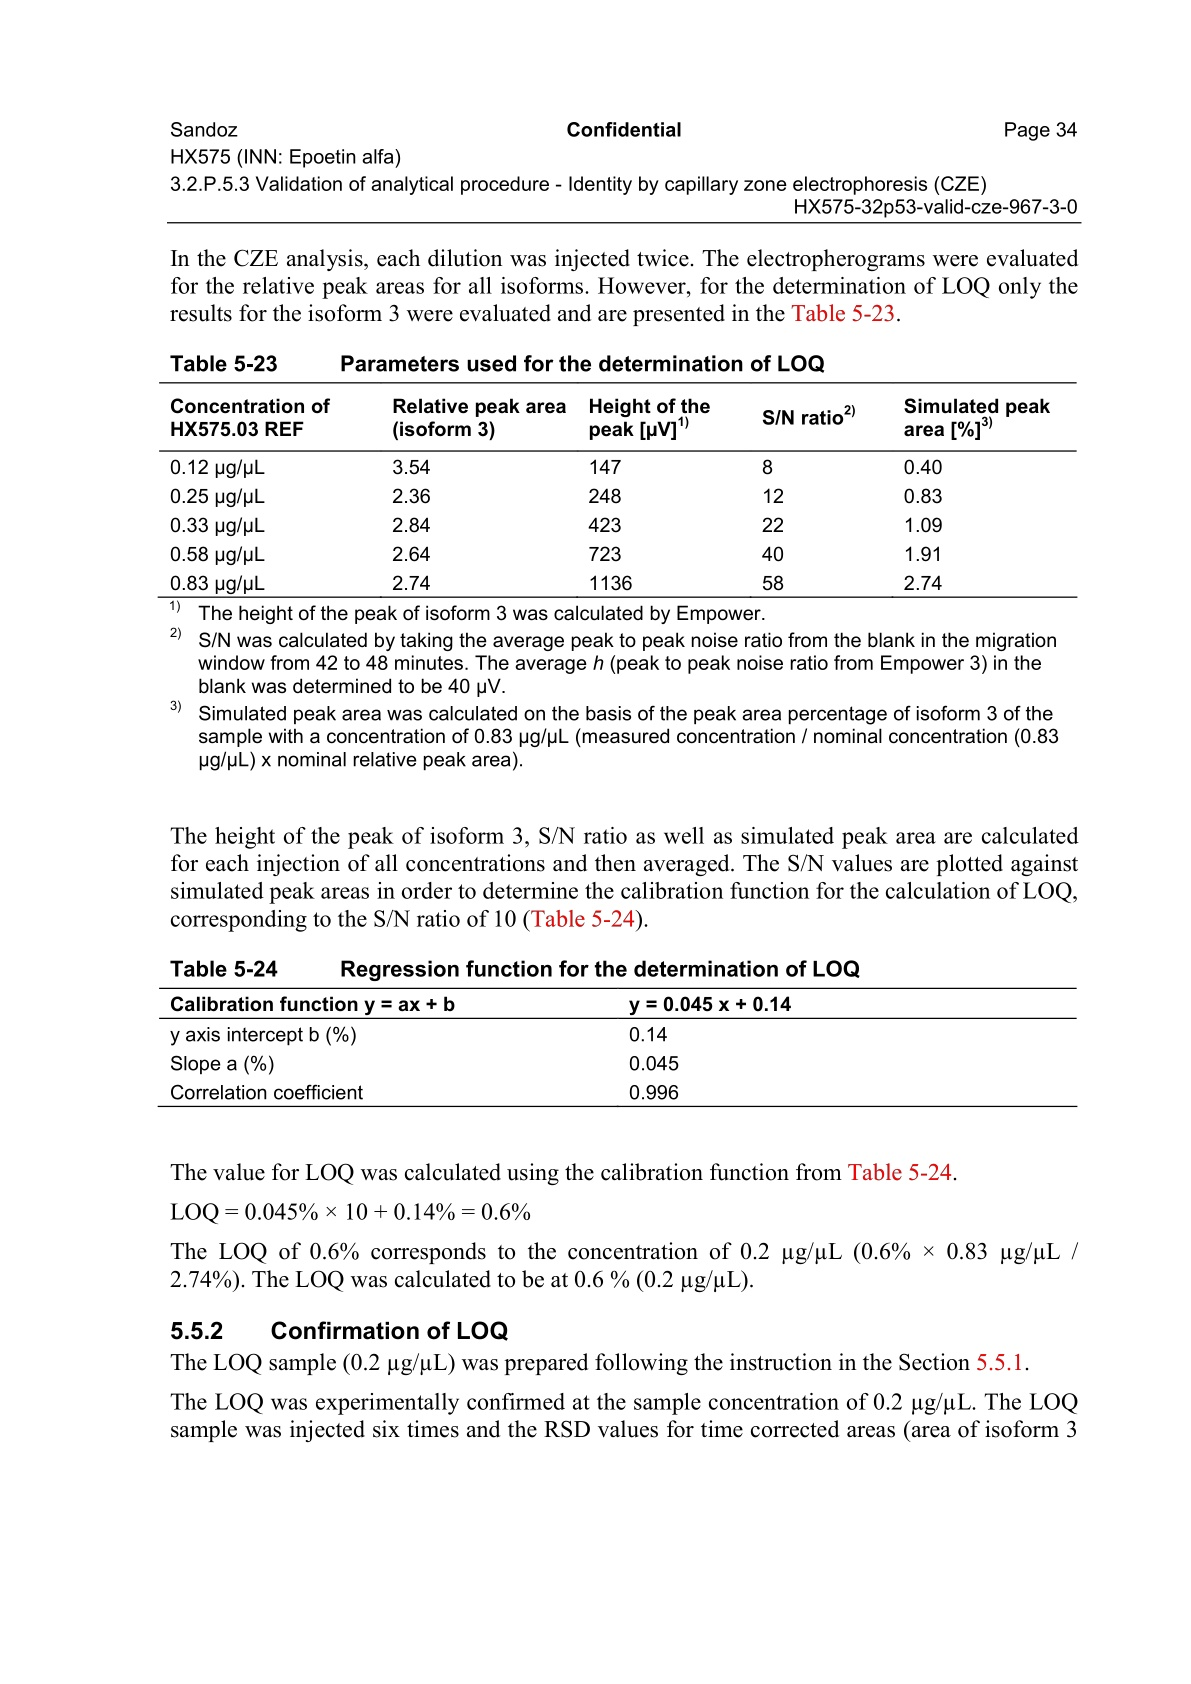partial_lined: (157, 381, 1079, 599), (157, 987, 1078, 1108)
